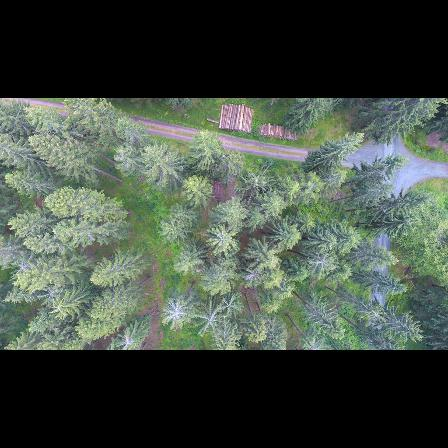Sick: (159, 294, 194, 328), (192, 304, 226, 334), (309, 248, 333, 275), (37, 282, 62, 302), (220, 294, 242, 315)
